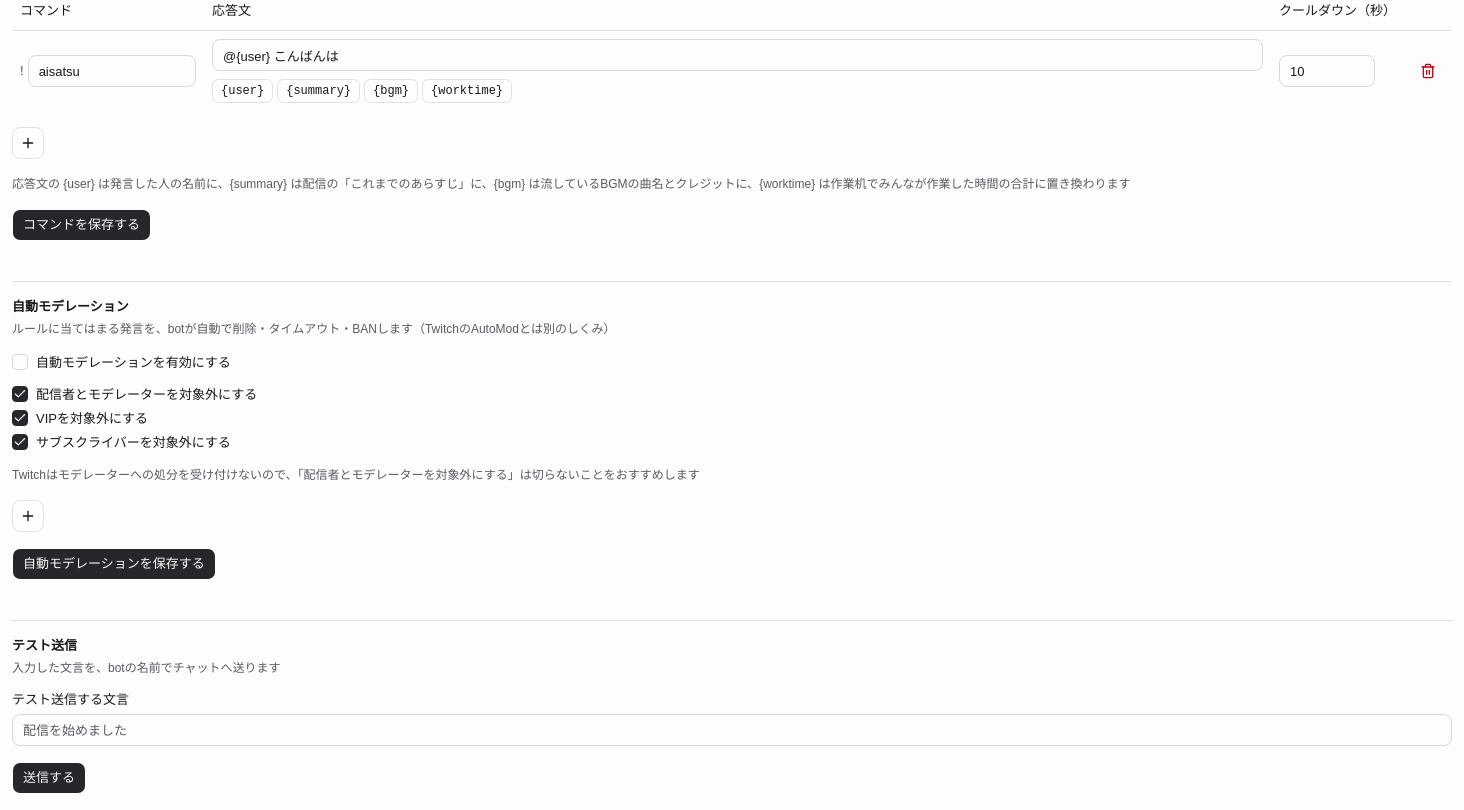
Test: テスト送信 › 入力した本文をWorkerへ送り、送れたことを知らせる
(page scrolled)
Type "こんばんは、配信が始まりました" into the field labelled "テスト送信する文言" at (732, 730), box [12,714,1452,746]
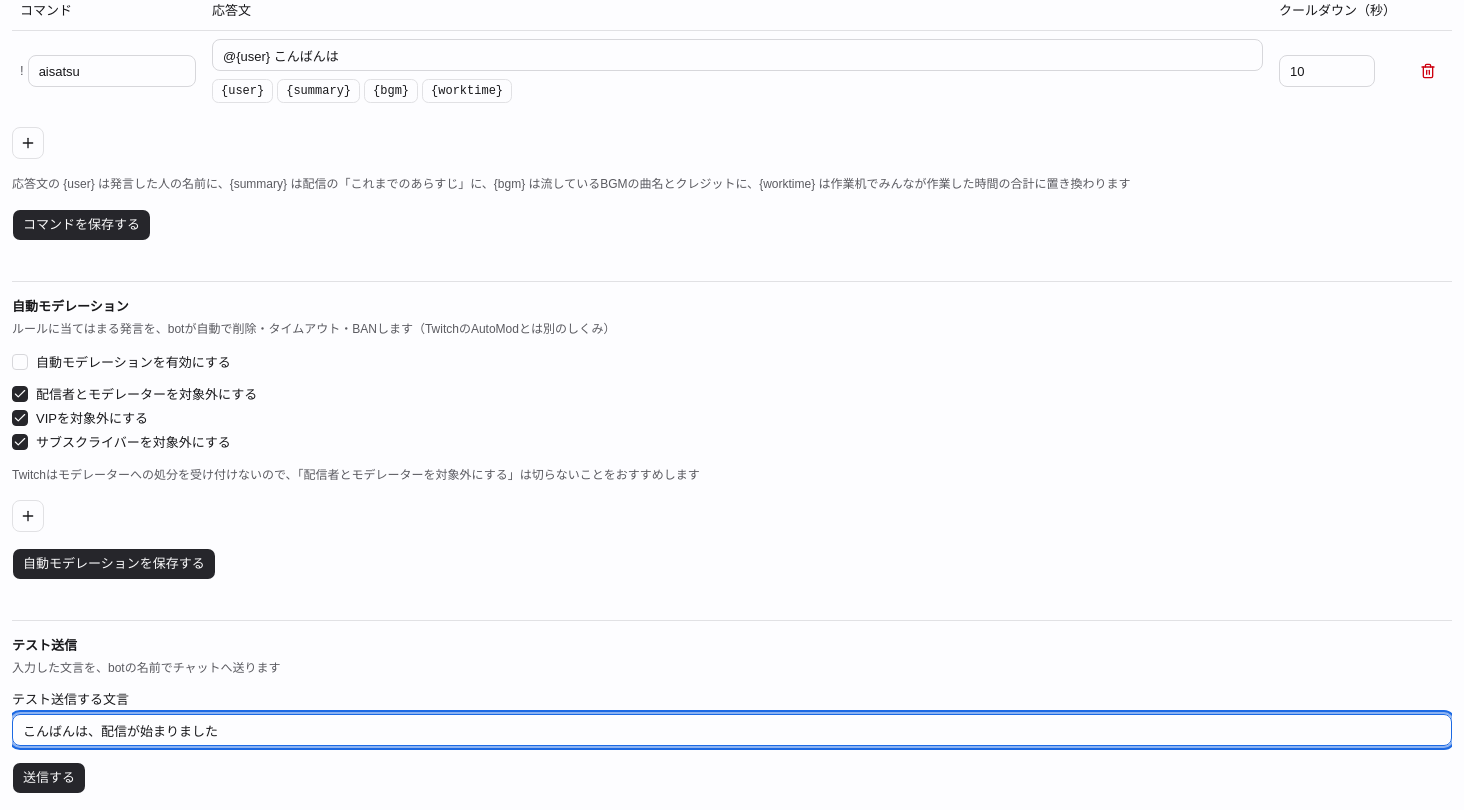
Click the button "送信する" at (49, 778), box [12,762,86,794]
(page scrolled)
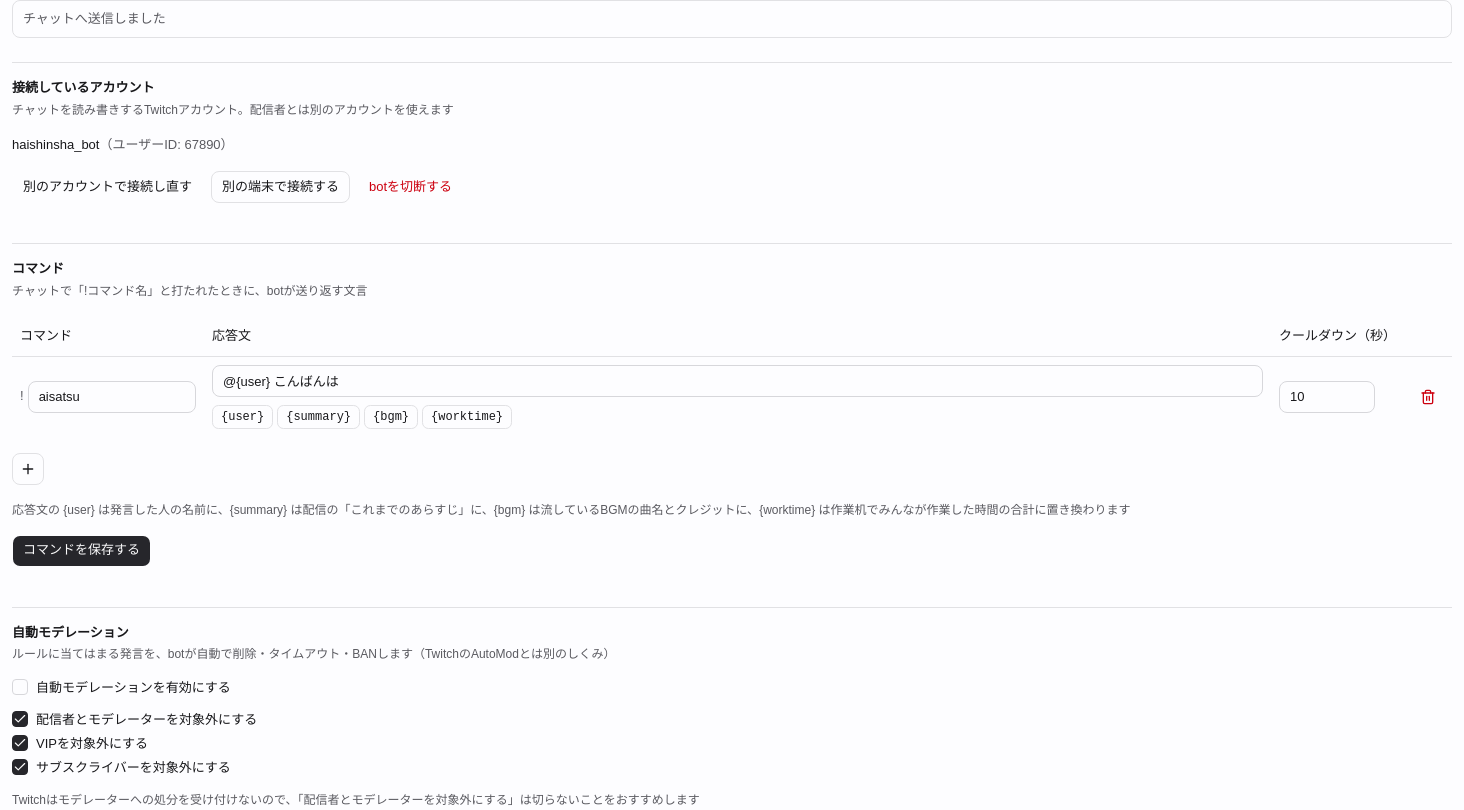
Result: the text "チャットへ送信しました" is shown at [23,11,166,26]
